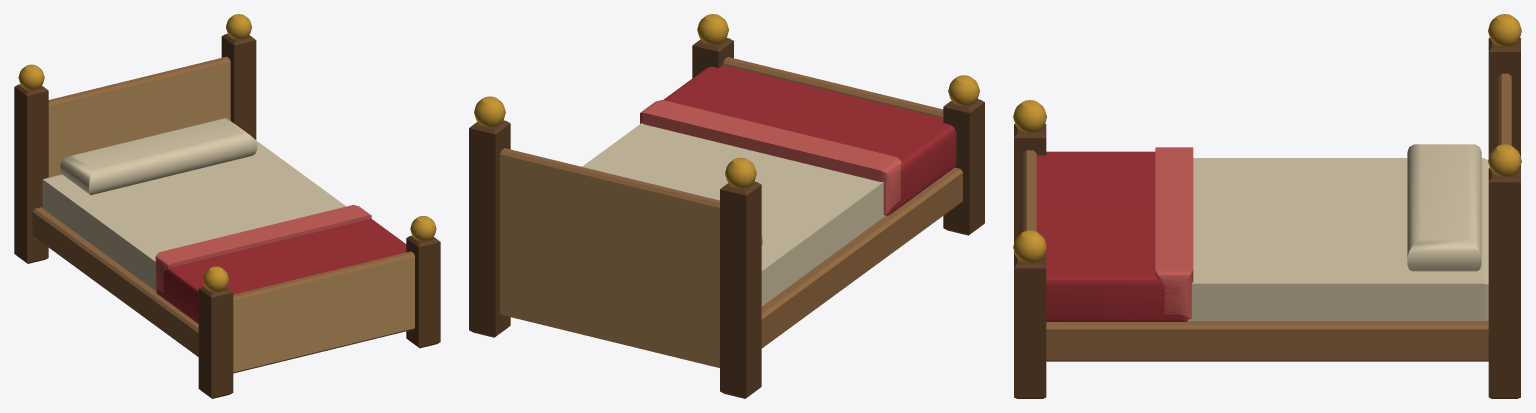
Rendered from Bed_13.glb.
The picture shows the model from 3 angles, left to right: view 1: azimuth 30°, elevation 25°; view 2: azimuth 150°, elevation 25°; view 3: azimuth 270°, elevation 25°; orthographic projection. The views are drawn at different scales.
Visible parts, largest first — view 1: Bed_13; view 2: Bed_13; view 3: Bed_13.
Boxes of the visible parts, bbox=[...] form: Bed_13: bbox=[14, 14, 440, 398]; Bed_13: bbox=[469, 14, 984, 398]; Bed_13: bbox=[1013, 14, 1521, 398].
Size of the model in its own units: 5.05 by 4.03 by 7.5.
